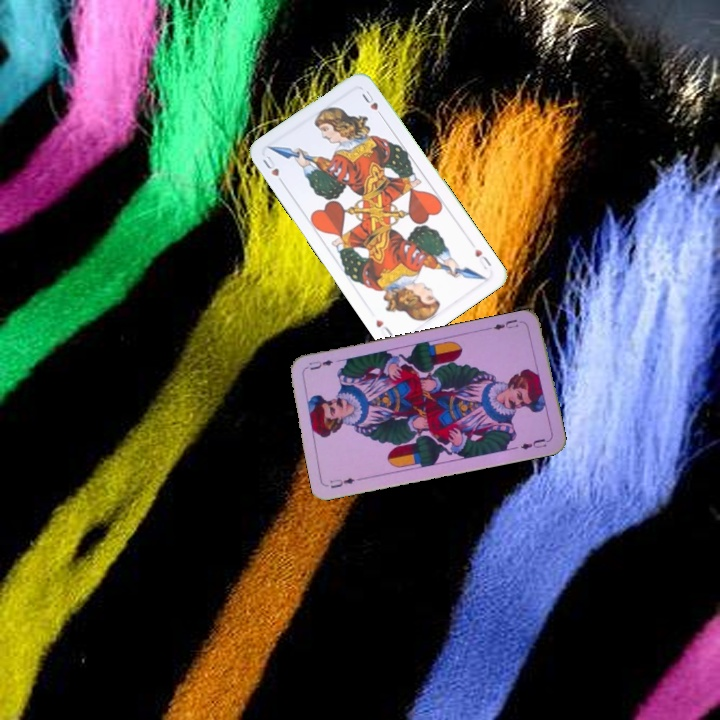EU: (486, 315, 527, 333), (326, 474, 357, 491)
HU: (258, 152, 287, 188), (471, 245, 494, 272)
